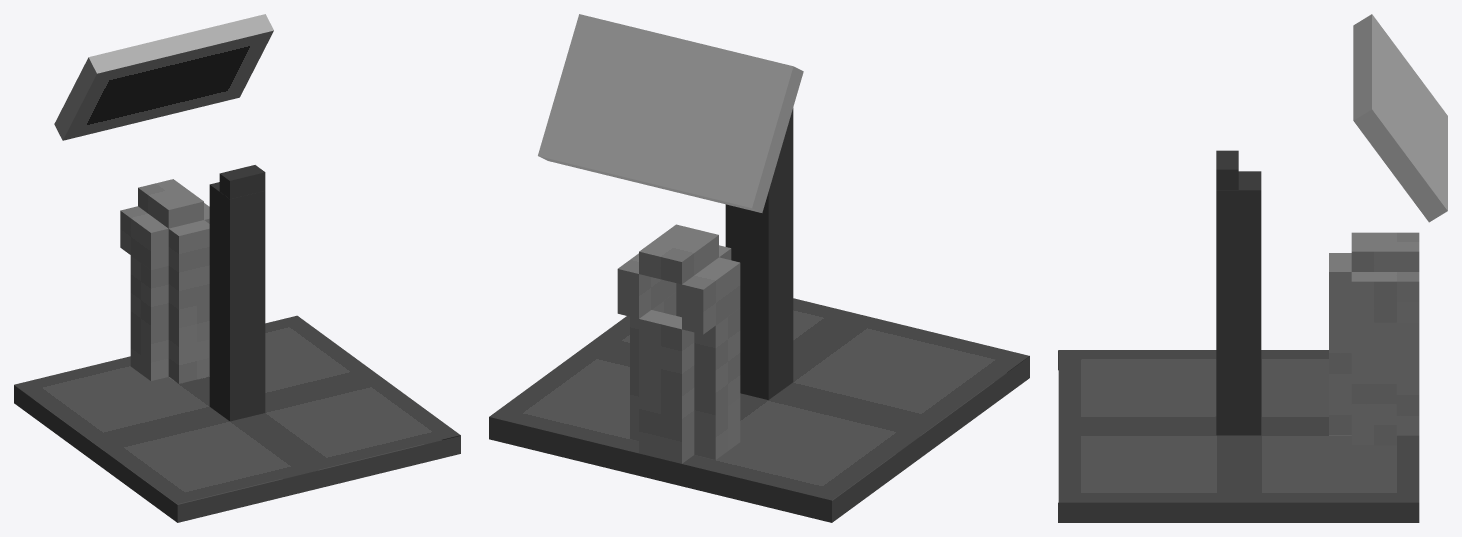
Rendered from assemblyController.obj.
3 renders of one model, left to right at view 1: azimuth 30°, elevation 25°; view 2: azimuth 150°, elevation 25°; view 3: azimuth 270°, elevation 25°, orthographic. The views are drawn at different scales.
Visible parts, largest first — view 1: Base, Screen, Tube; view 2: Base, Screen, Tube; view 3: Base, Screen, Tube.
Boxes of the visible parts, <box> form: Base: <box>14,315,460,522</box>; Screen: <box>54,14,273,421</box>; Tube: <box>120,179,209,383</box>; Base: <box>489,298,1029,522</box>; Screen: <box>538,14,803,399</box>; Tube: <box>617,224,740,463</box>; Base: <box>1058,350,1419,522</box>; Screen: <box>1216,14,1447,435</box>; Tube: <box>1329,232,1419,445</box>.
Bounding box in the file's own units: 1 × 1.18 × 1.08.
